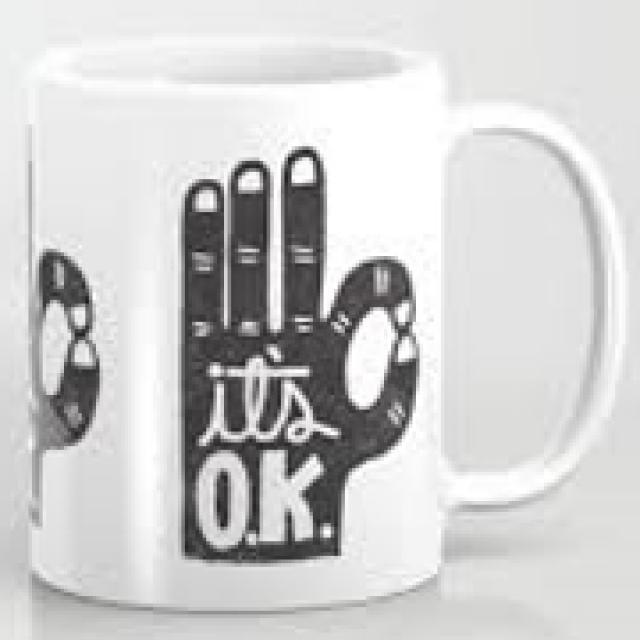taza: (27, 33, 626, 612)
